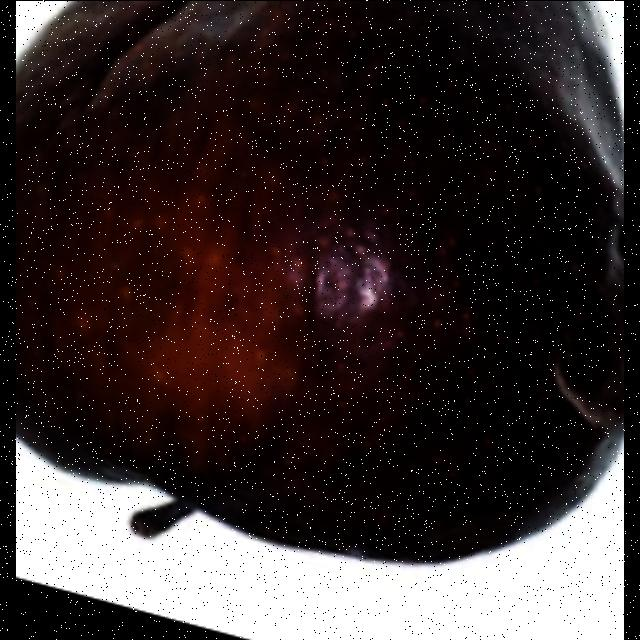Apel Tidak Segar: (16, 0, 624, 582)
